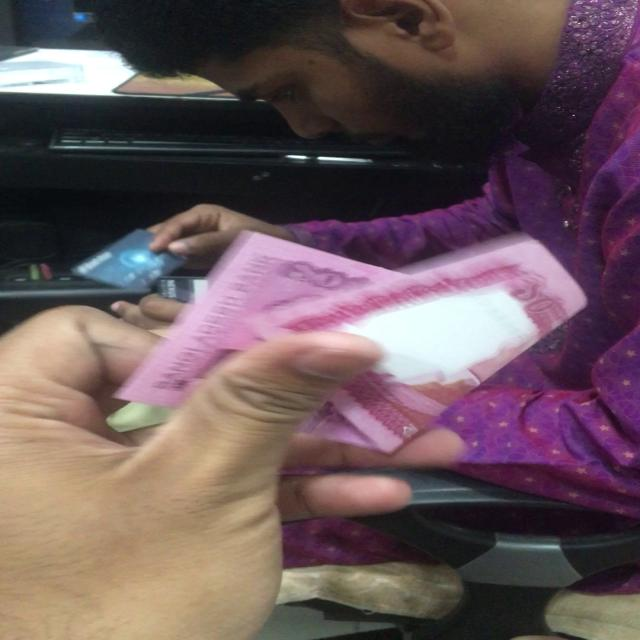Taka: (176, 232, 587, 440)
